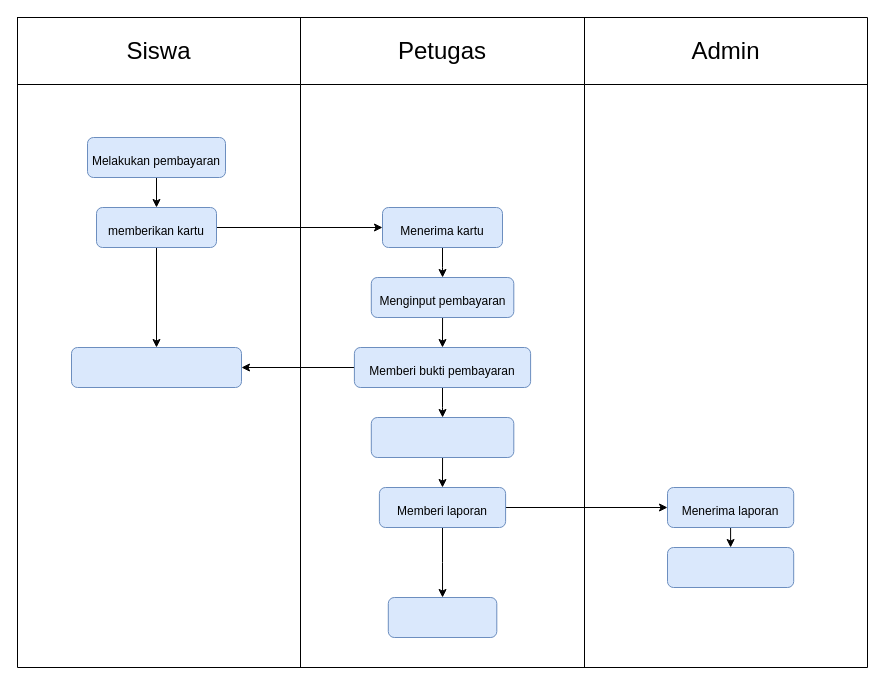
The diagram is 885 pixels wide and 685 high, and some of its shapes have lost their labels. Here are the shapes that lost their labels. From the top down, the centre of each, then its label:
At pixel 156 367: "Menerima bukti pembayaran".
At pixel 442 437: "Membuat laporan".
At pixel 730 567: "Mengecek laporan".
At pixel 442 617: "Logout".
